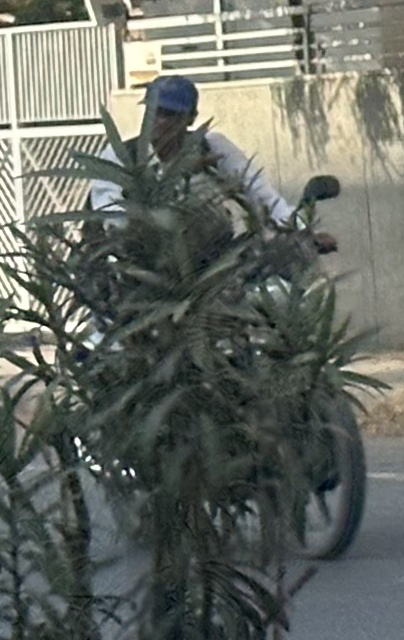BikeWithRider: (40, 66, 398, 639)
NoHelmet: (126, 69, 214, 159)
